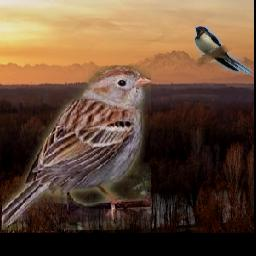Sparrow: (3, 66, 152, 231)
Swallow: (194, 26, 252, 74)
